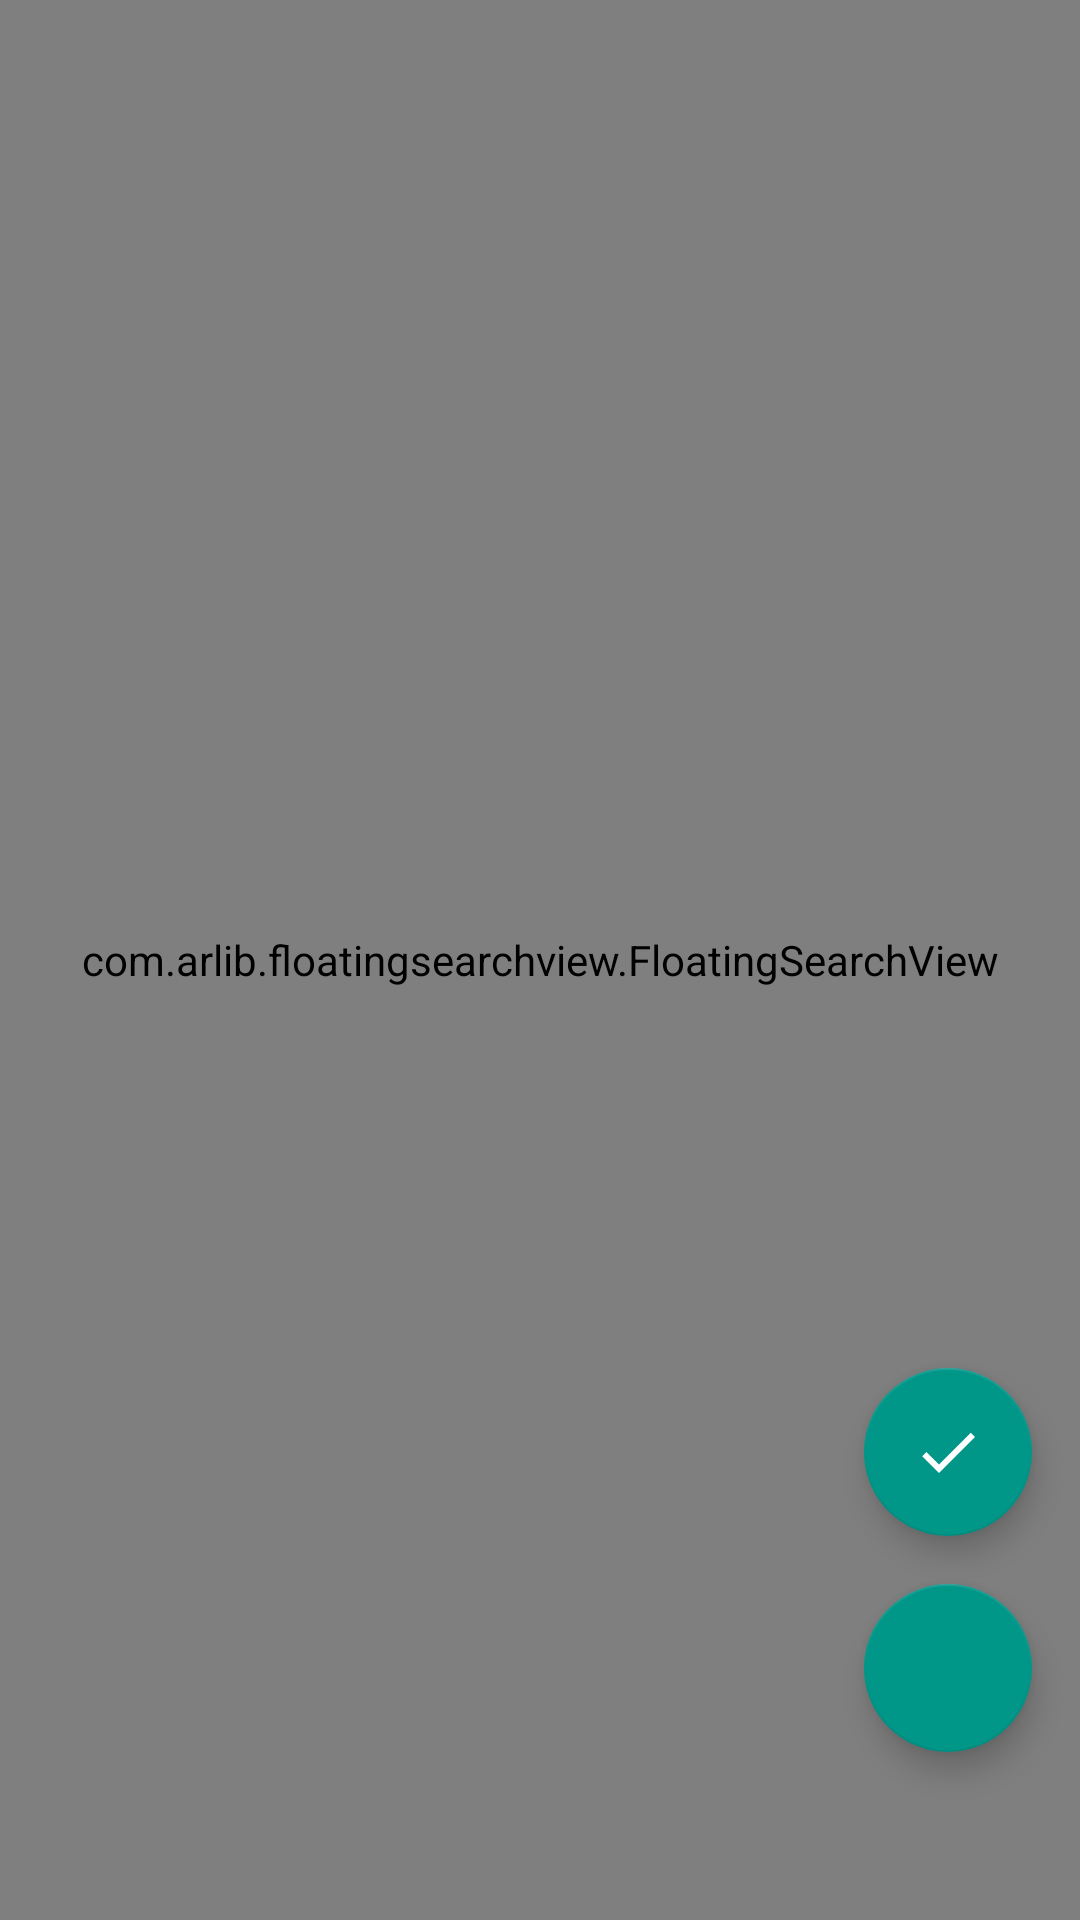

Icon bounding boxes for this 1080×1920 phone screenshot, format {"x1": x1, "y1": y1, "x2": x2, "y2": y2}:
done: {"x1": 864, "y1": 1368, "x2": 1032, "y2": 1536}
